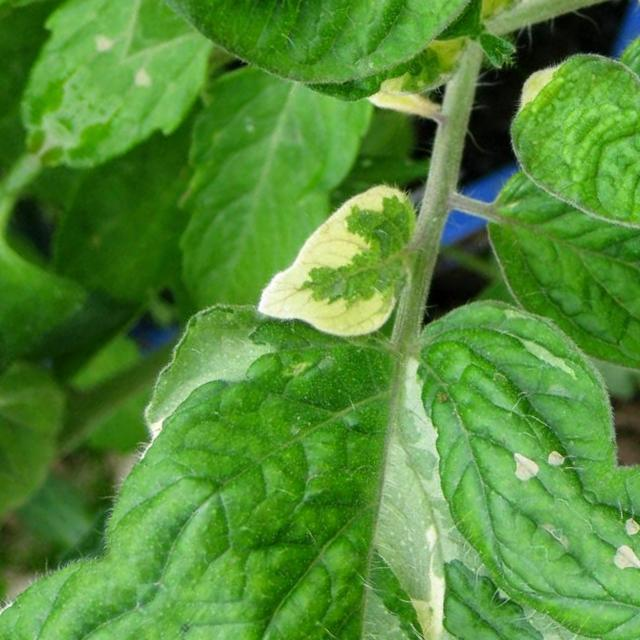Tomato leaf: (158, 0, 467, 175), (0, 240, 96, 465)
